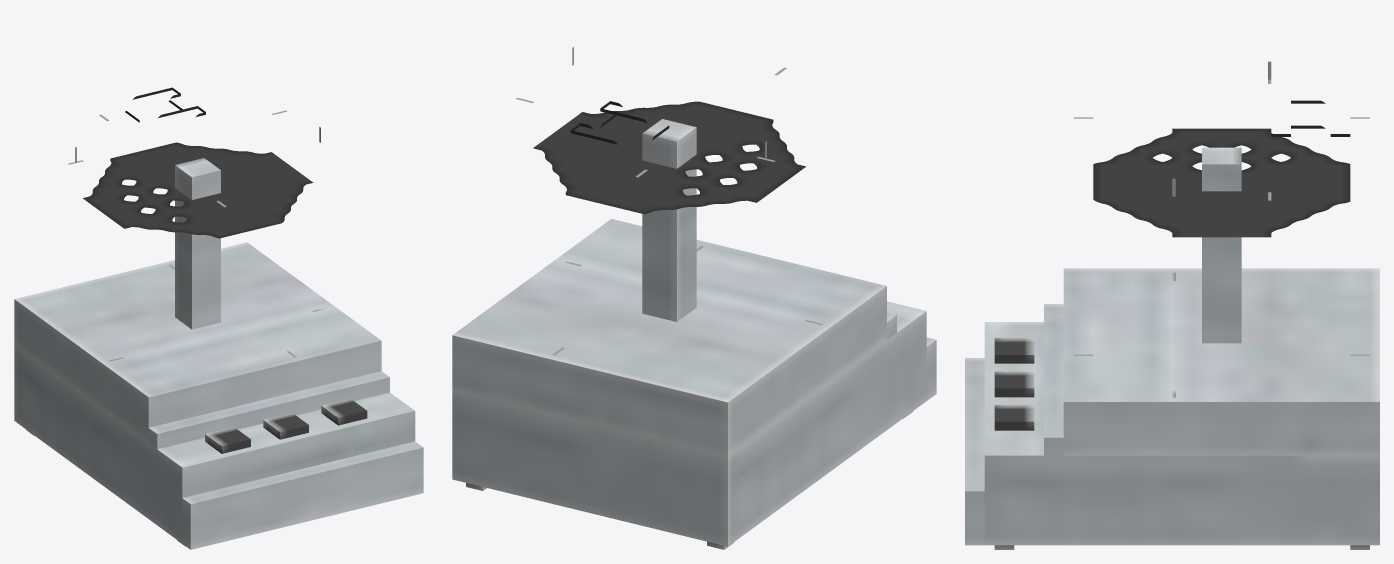
File: food_processor.obj
3 renders of one model, left to right at view 1: azimuth 30°, elevation 25°; view 2: azimuth 150°, elevation 25°; view 3: azimuth 270°, elevation 25°, orthographic. The views are drawn at different scales.
Parts seen in each view (by area): view 1: Base4, Base, Blade, Base3, BladeShaft, Base2, button3, button1, button2; view 2: Base4, Base, Blade, BladeShaft, Base3; view 3: Base4, Base, Blade, BladeShaft, Base3, Base2, button2, button1, button3.
Boxes of the visible parts, x1,y1,x2,y2 form: Base4: (14,242,381,442); Base: (14,345,415,543); Blade: (82,142,313,238); Base3: (182,441,423,549); BladeShaft: (175,158,220,329); Base2: (148,371,389,449); button3: (321,398,367,425); button1: (205,427,250,453); button2: (263,413,308,439); Base4: (452,219,886,456); Base: (452,301,926,546); Blade: (533,101,805,213); BladeShaft: (642,119,696,321); Base3: (926,337,936,400); Base4: (1063,268,1379,455); Base: (984,322,1379,545); Blade: (1093,128,1350,237); BladeShaft: (1202,147,1241,343); Base3: (965,358,984,545); Base2: (1044,304,1063,455); button2: (994,371,1034,397); button1: (994,338,1034,363); button3: (994,405,1034,430).
Size of the model in its own units: 1 by 1.59 by 1.31.
